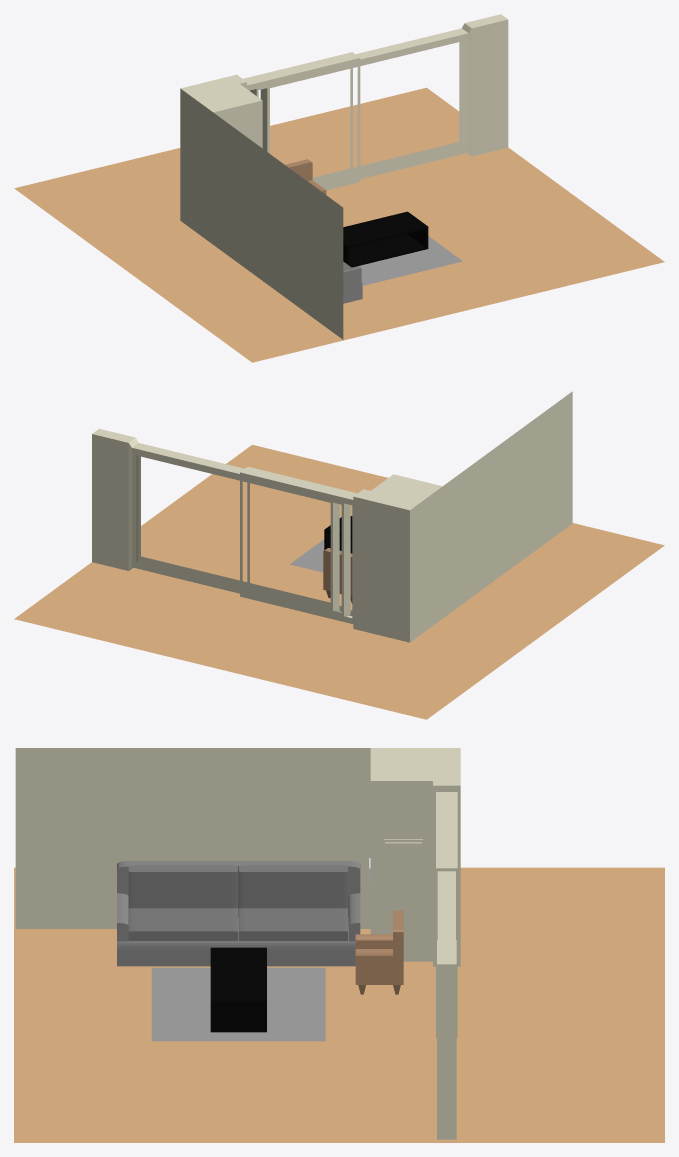
The model's file is LivingRoom2.glb.
3 views of the same model, one above another, from view 1: azimuth 30°, elevation 25°; view 2: azimuth 150°, elevation 25°; view 3: azimuth 270°, elevation 25° (orthographic). The views are drawn at different scales.
Parts seen in each view (by area): view 1: Plane, Cube.009, Cube.003, Plane.001, Cube; view 2: Plane, Cube.009, Cube.005, Plane.001; view 3: Plane, Cube.009, Cube.002, Plane.001, Cube, Cube.001, Cube.003, Cube.005.
Part boxes in pixels (box(x1,y1,x2,y2)): Plane: box(14, 87, 664, 362); Cube.009: box(180, 14, 508, 339); Cube.003: box(343, 211, 428, 267); Plane.001: box(352, 236, 462, 285); Cube: box(343, 266, 362, 303); Plane: box(14, 444, 664, 719); Cube.009: box(92, 391, 572, 642); Cube.005: box(323, 548, 352, 603); Plane.001: box(290, 539, 324, 572); Plane: box(14, 867, 664, 1142); Cube.009: box(15, 748, 460, 1139); Cube.002: box(128, 865, 348, 908); Plane.001: box(151, 967, 325, 1041); Cube: box(117, 861, 360, 966); Cube.001: box(128, 908, 347, 941); Cube.003: box(210, 947, 266, 1032); Cube.005: box(355, 910, 403, 994).
Size of the model in its own units: 16.76 by 5.18 by 16.76.
